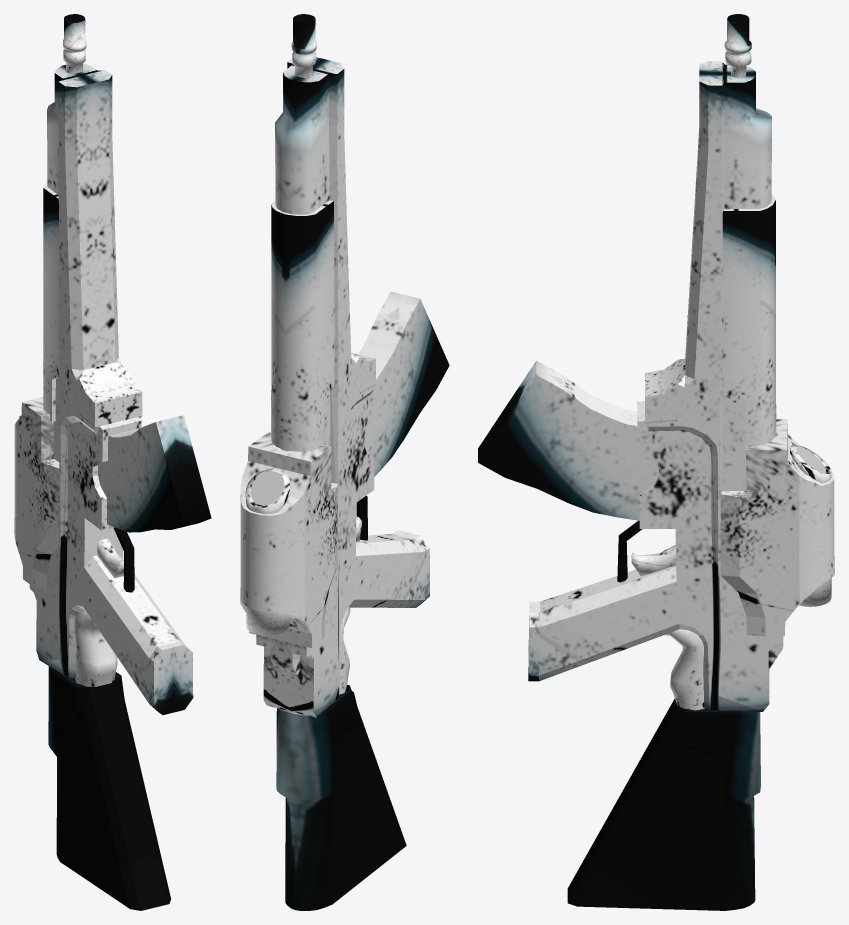
File: AssaultRifle.fbx
3 views of the same model, side by side, from view 1: azimuth 30°, elevation 25°; view 2: azimuth 150°, elevation 25°; view 3: azimuth 270°, elevation 25° (orthographic). The views are drawn at different scales.
Visible parts, largest first — view 1: Cube; view 2: Cube; view 3: Cube.
Part boxes in pixels (x1=…): Cube: x1=14, y1=14, x2=211, y2=910; Cube: x1=240, y1=14, x2=449, y2=910; Cube: x1=478, y1=14, x2=834, y2=910.
Bounding box in the file's own units: 4.44 × 60.08 × 22.04.
